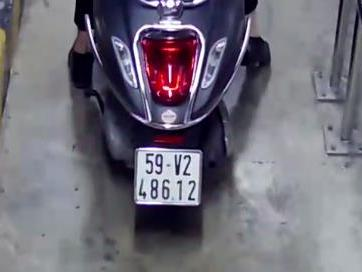num_plate: (133, 146, 204, 207)
